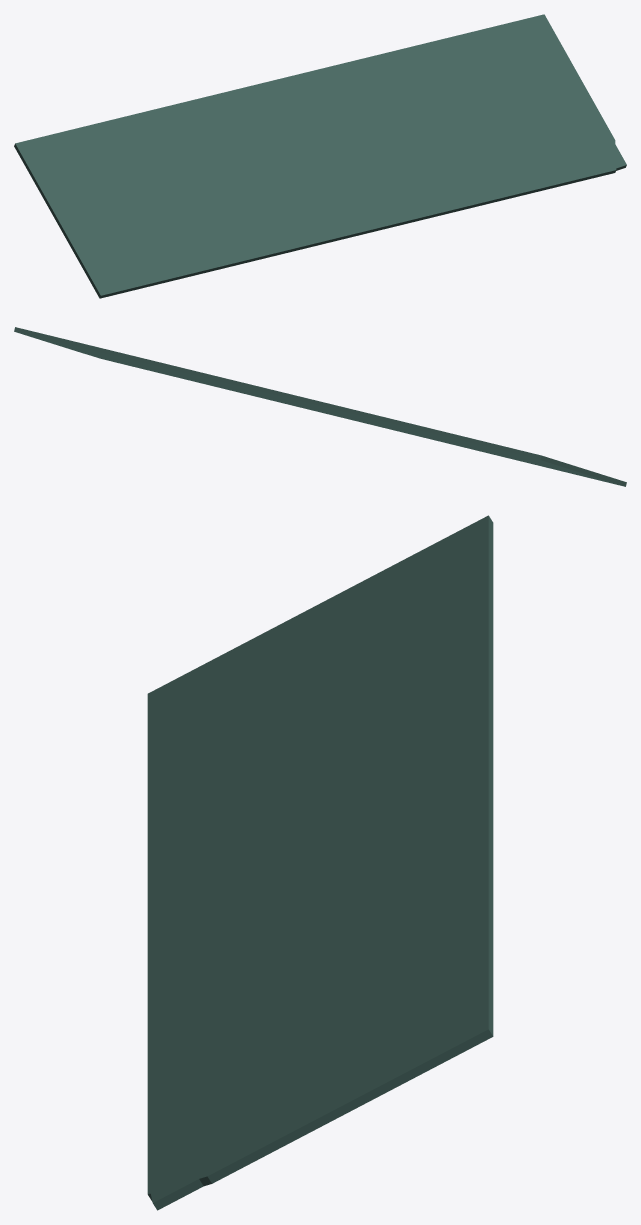
The picture shows the model from 3 angles, top to bottom: view 1: azimuth 30°, elevation 25°; view 2: azimuth 150°, elevation 25°; view 3: azimuth 270°, elevation 25°; orthographic projection. The views are drawn at different scales.
Parts seen in each view (by area): view 1: B-ROOF-2-1; view 2: B-ROOF-2-1; view 3: B-ROOF-2-1.
Boxes of the visible parts, box(x1,y1,x2,y2) form: B-ROOF-2-1: box(14, 14, 626, 298); B-ROOF-2-1: box(14, 327, 626, 486); B-ROOF-2-1: box(147, 515, 493, 1210).
Bounding box in the file's own units: 13.38 × 2.26 × 3.8.
